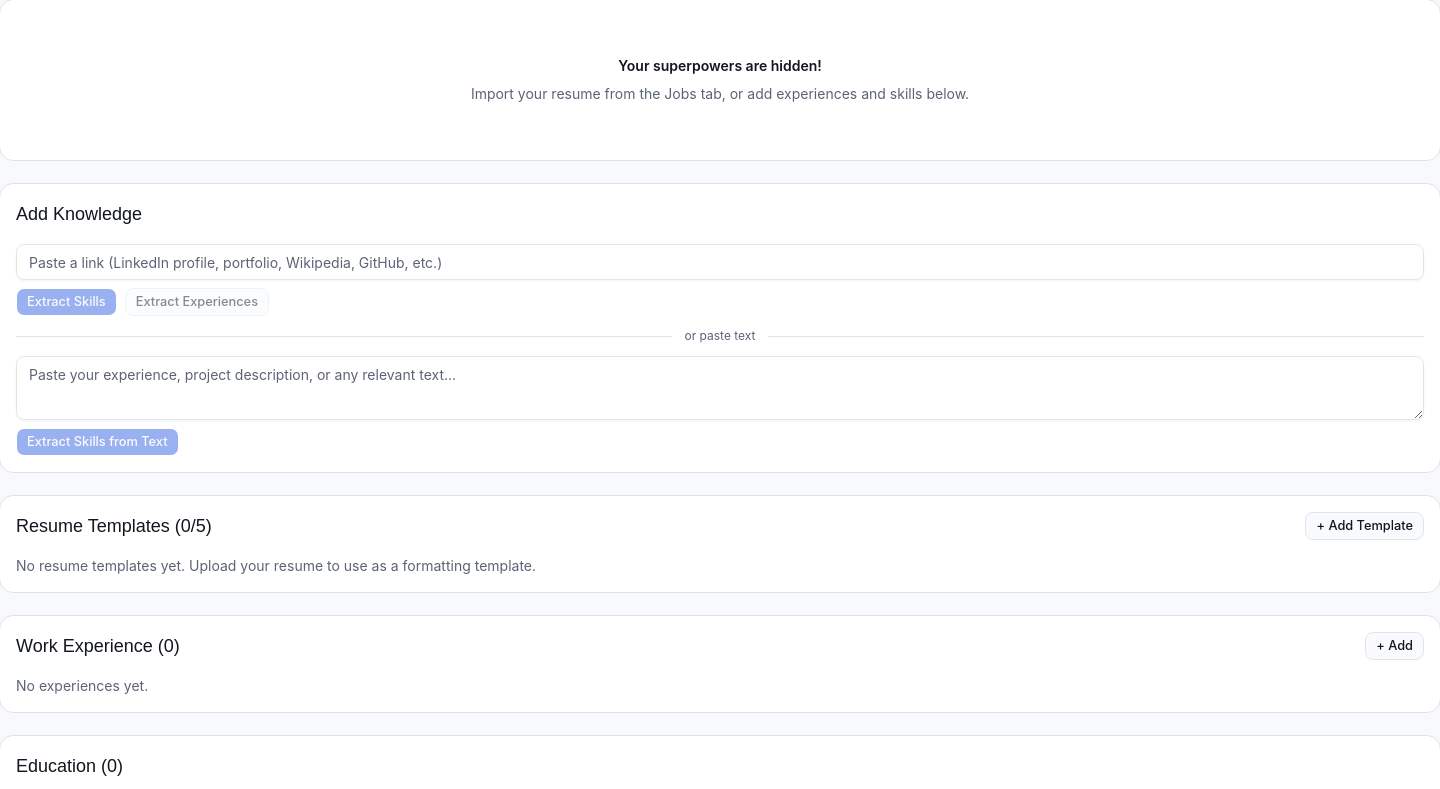
it: Workflow: Manual experience CRUD › creates a new experience and lists it after refresh
Expected: the text "Work Experience (0)" is shown, [16,632,180,660]
Click the button "+ Add" at (1395, 646), box [1365,632,1424,660]
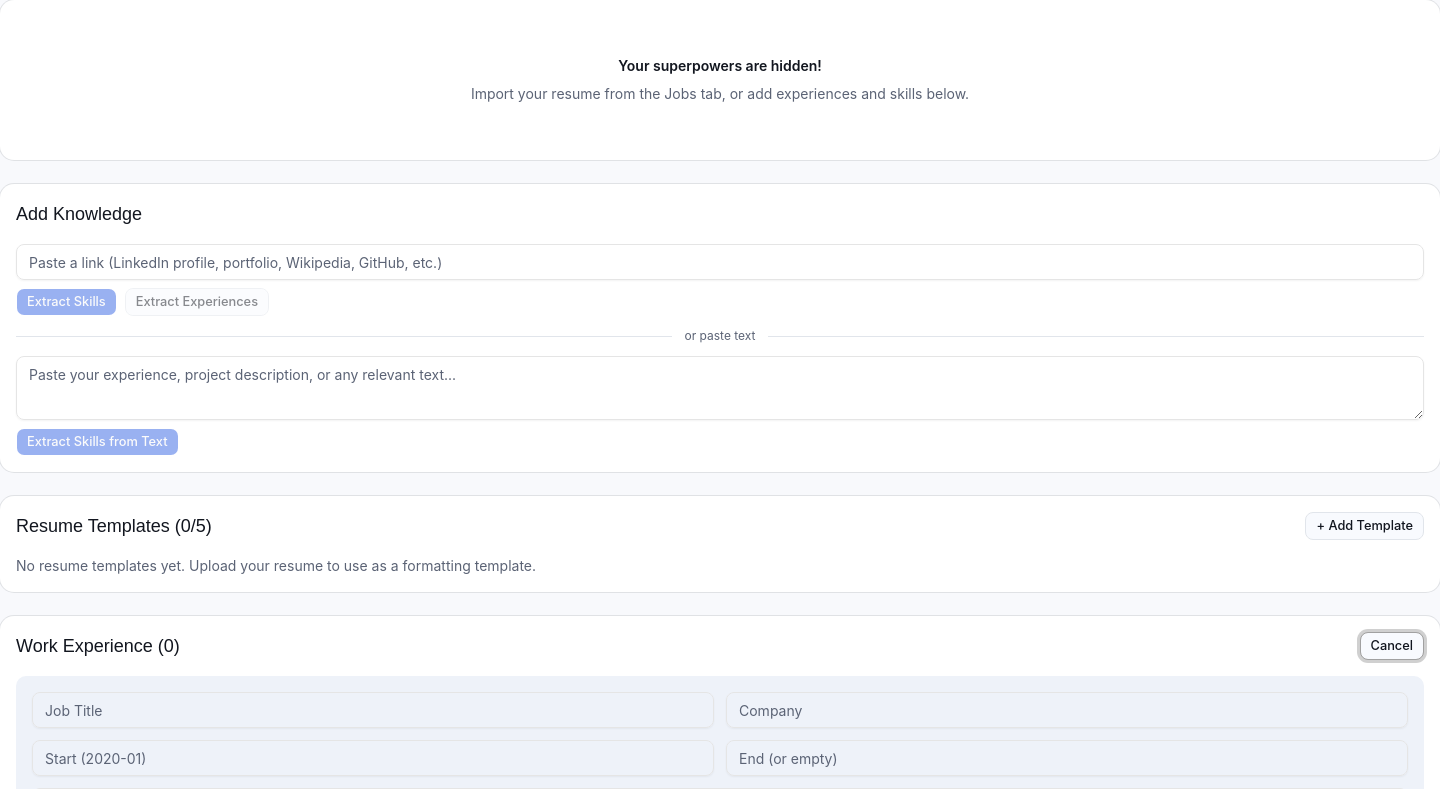
Type "Senior Engineer" into the field labelled "Job Title" at (373, 710), box [32,692,714,728]
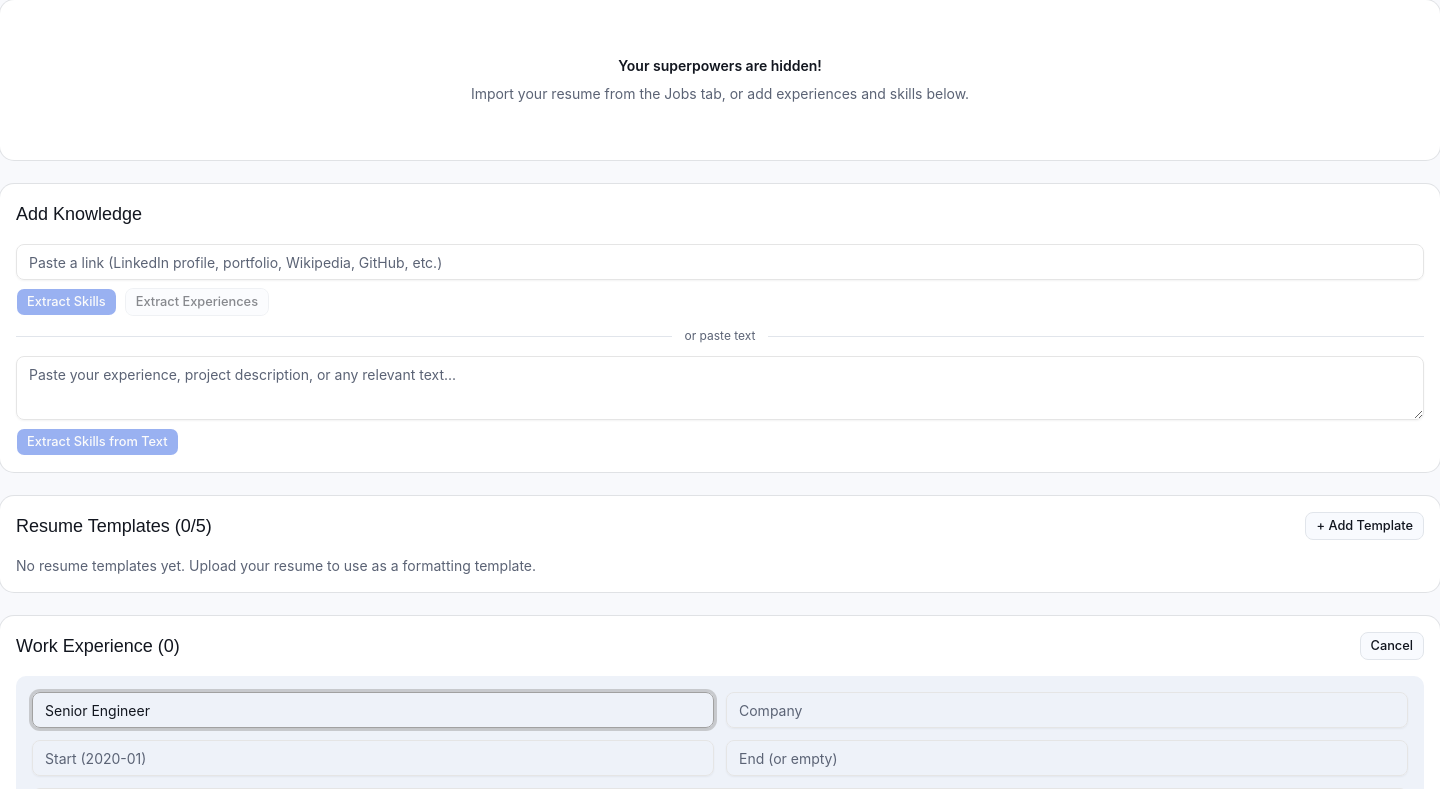
Type "Acme" into the field labelled "Company" at (1067, 710), box [726,692,1408,728]
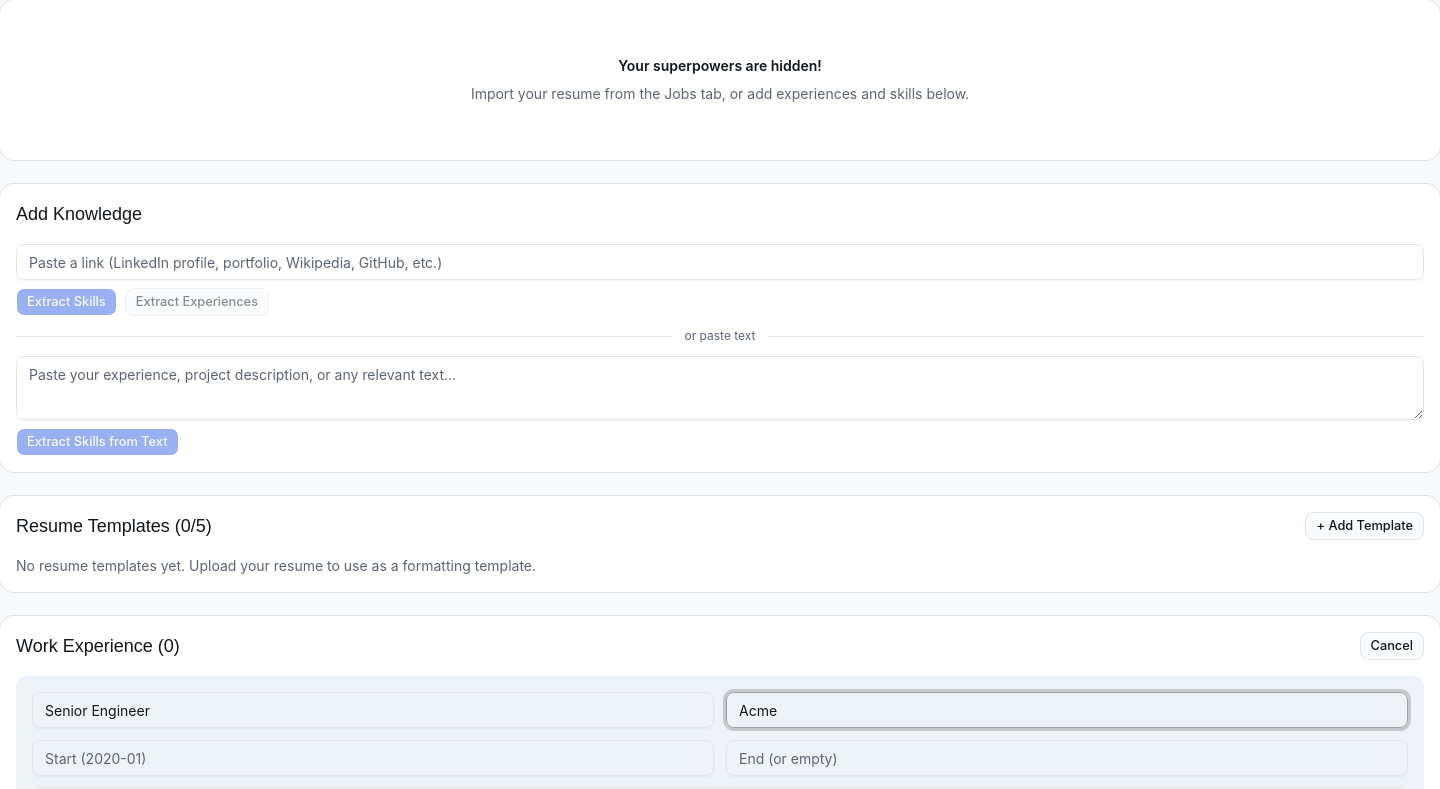
Type "2020-01" into the field named "Start date" at (373, 758), box [32,740,714,776]
(page scrolled)
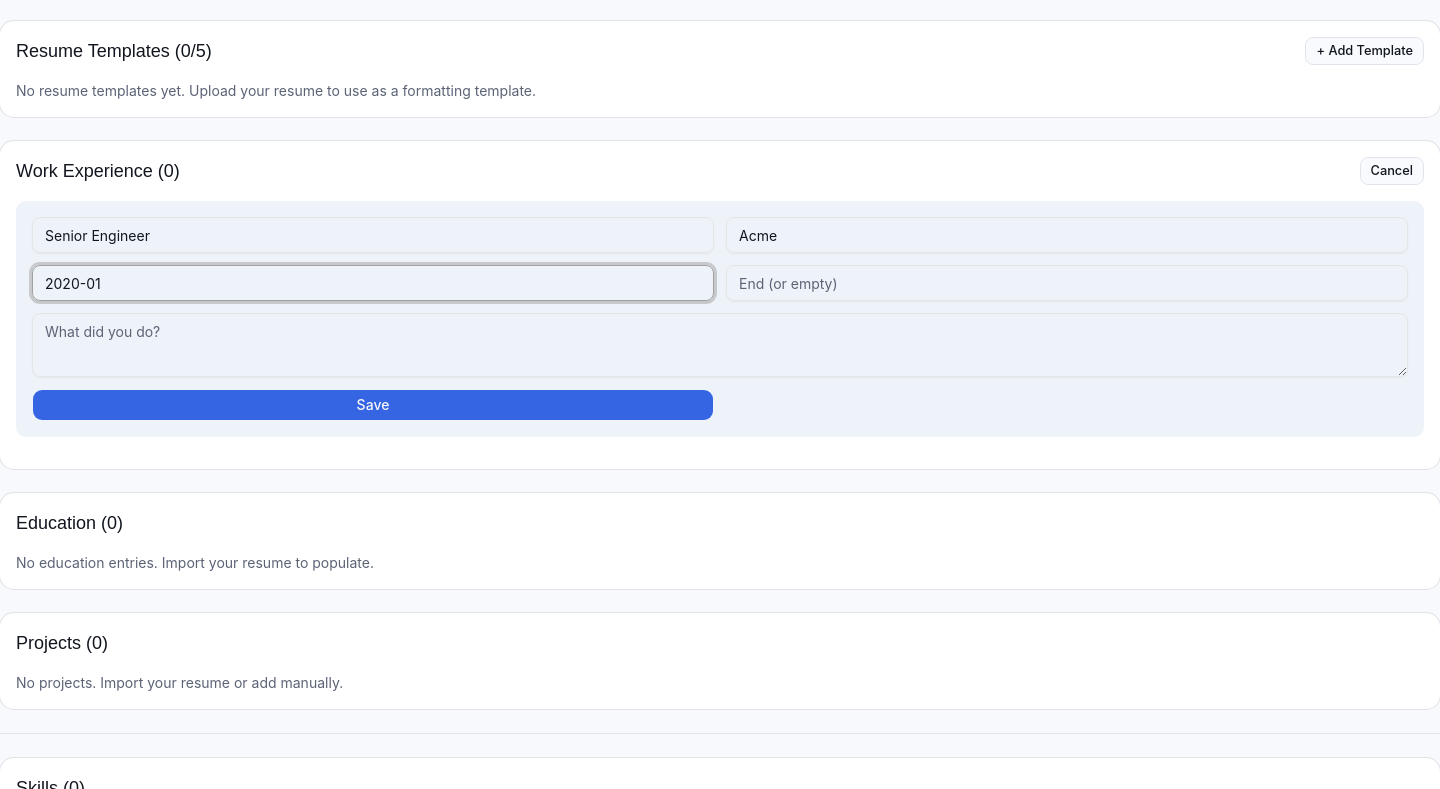
Click the button "Save" at (373, 405), box [32,389,714,421]
(page scrolled)
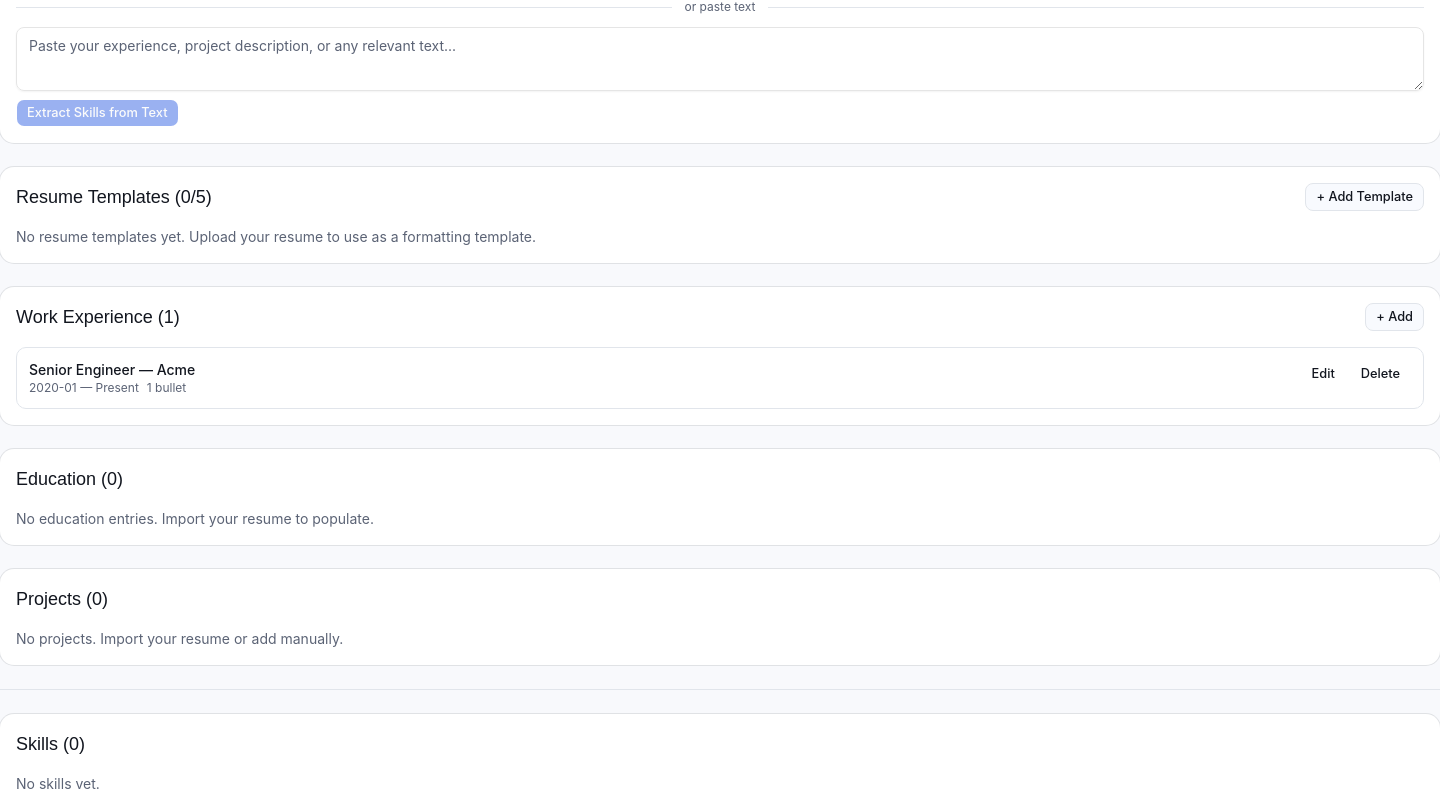
Now the text "Senior Engineer — Acme" is shown, box [29,361,195,378]
